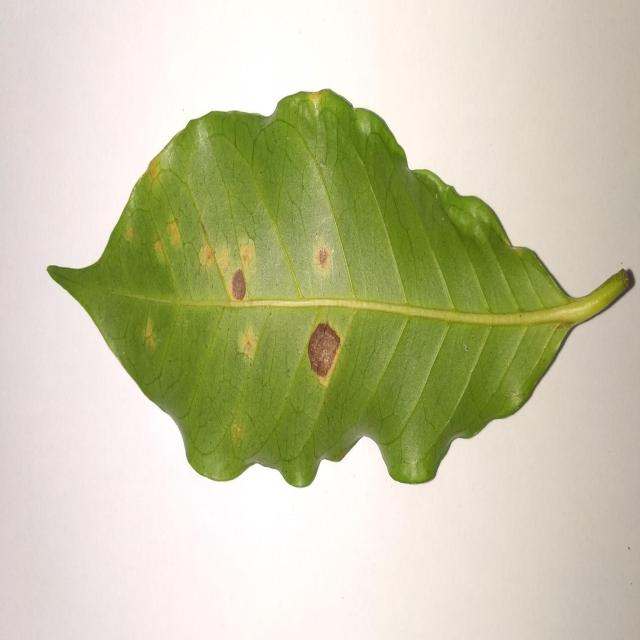Enfermedad-Mancha-de-hierro: (46, 89, 636, 491)
